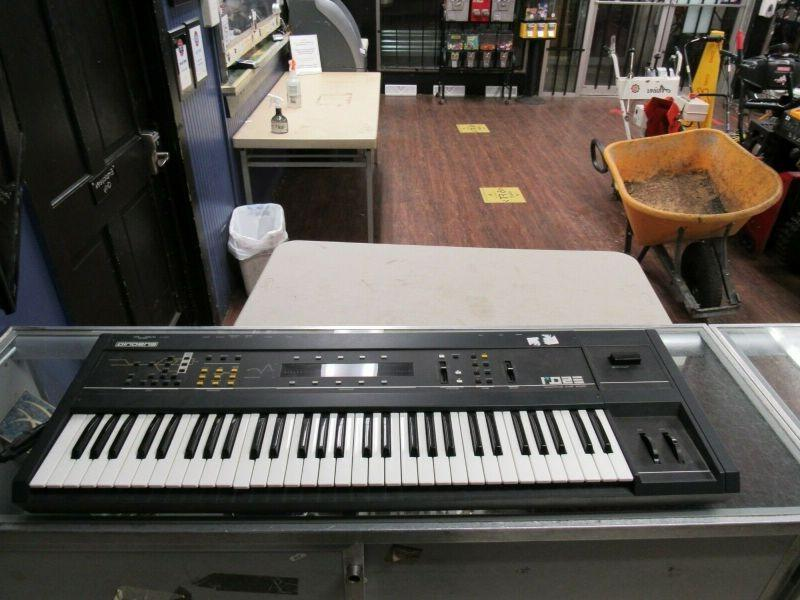synthesizer: (44, 315, 749, 504)
